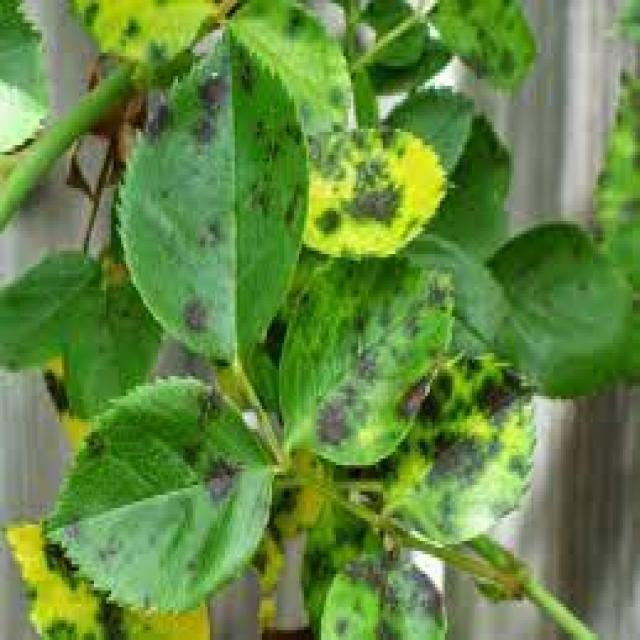Bercak Daun Serkospora: (120, 23, 314, 370), (46, 373, 277, 608), (277, 253, 462, 474)
